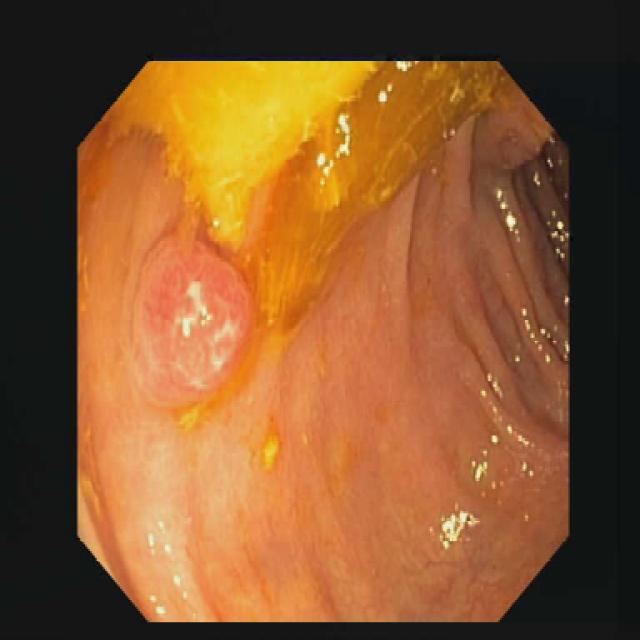tumor: (133, 233, 253, 404)
